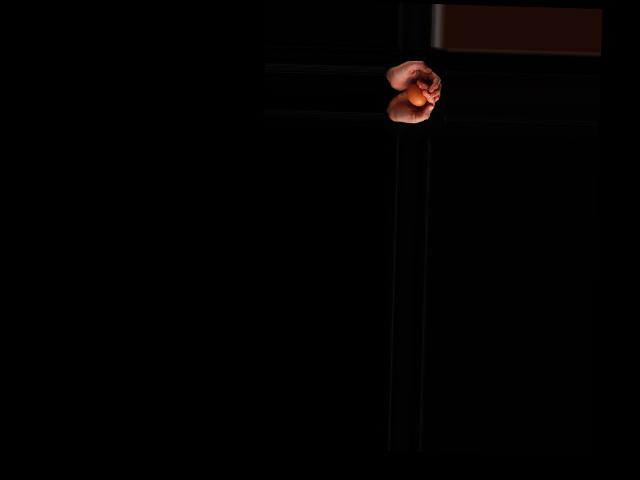egg: (406, 82, 426, 106)
